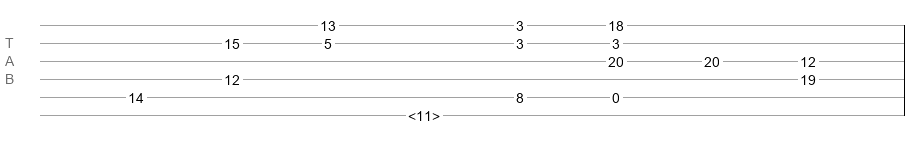0: (612, 90, 620, 100)
12: (224, 72, 240, 82), (800, 54, 816, 64)
13: (320, 18, 336, 28)
14: (128, 90, 144, 100)
15: (224, 36, 240, 46)
18: (608, 18, 624, 28)
19: (800, 72, 816, 82)
20: (608, 54, 624, 64), (704, 54, 720, 64)
3: (516, 36, 524, 46), (516, 18, 524, 28), (612, 36, 620, 46)
5: (324, 36, 332, 46)
8: (516, 90, 524, 100)
harmonic: (408, 108, 440, 118)
